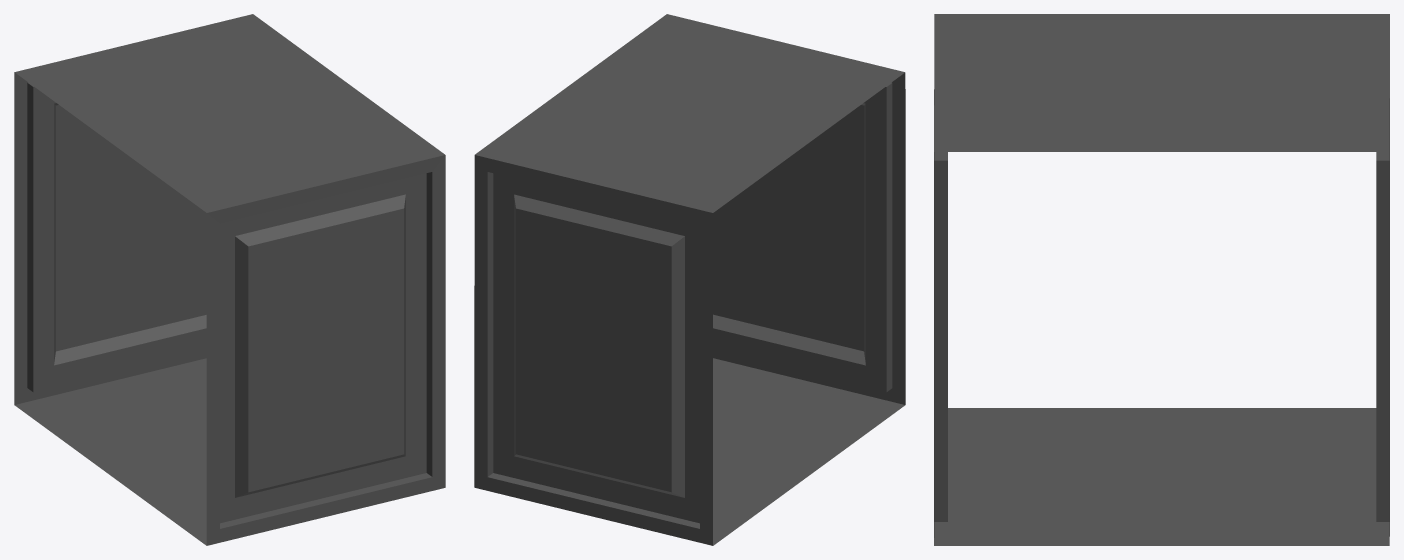
Rendered from Itr_Diningtable_Body_Middle_04.FBX.
The picture shows the model from 3 angles, left to right: view 1: azimuth 30°, elevation 25°; view 2: azimuth 150°, elevation 25°; view 3: azimuth 270°, elevation 25°; orthographic projection. The views are drawn at different scales.
Visible parts, largest first — view 1: Itr_Diningtable_Body_Middle_04; view 2: Itr_Diningtable_Body_Middle_04; view 3: Itr_Diningtable_Body_Middle_04.
Boxes of the visible parts, left/top/right/bottom form: Itr_Diningtable_Body_Middle_04: left=14, top=14, right=445, bottom=545; Itr_Diningtable_Body_Middle_04: left=474, top=14, right=905, bottom=545; Itr_Diningtable_Body_Middle_04: left=934, top=14, right=1389, bottom=545.
Bounding box in the file's own units: 24.71 × 32.91 × 34.5.
